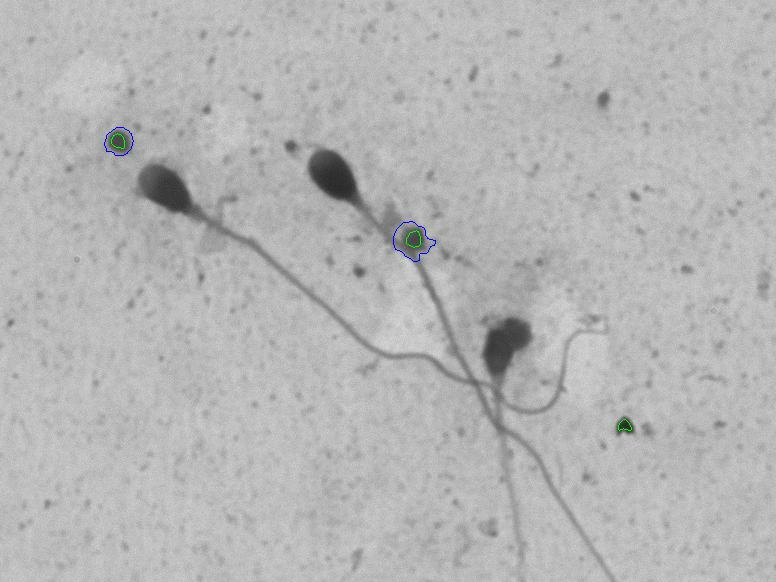Normal: (258, 107, 626, 573), (122, 149, 622, 440)
